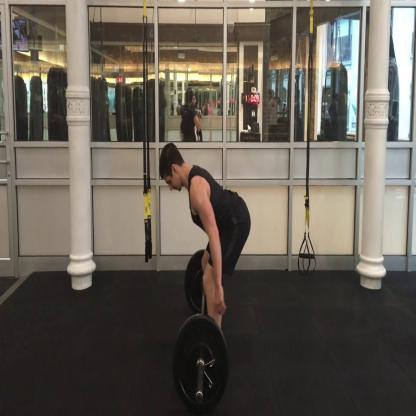Barbell: (166, 309, 236, 415)
